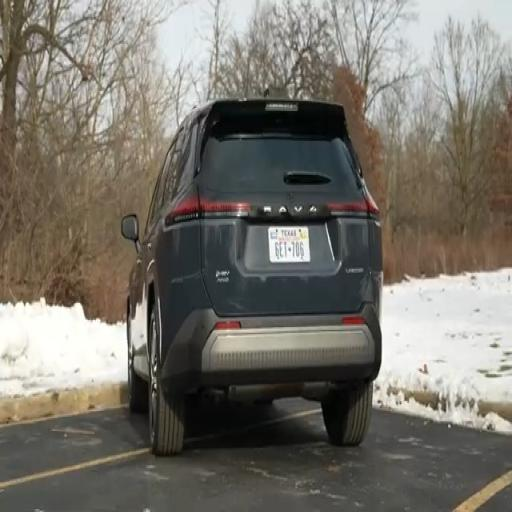bumper: (162, 305, 381, 392)
door: (132, 140, 175, 375)
emblem: (294, 205, 303, 213), (287, 194, 294, 203), (279, 207, 287, 213), (310, 207, 317, 213)
side_mirror: (121, 214, 139, 246)
taillight: (165, 188, 250, 226), (328, 192, 379, 216)
tire: (148, 306, 184, 455), (322, 382, 372, 446)
trunk: (196, 104, 371, 317), (201, 215, 370, 315)
wheel: (128, 318, 148, 413)
window: (201, 116, 358, 196), (145, 140, 175, 234)
